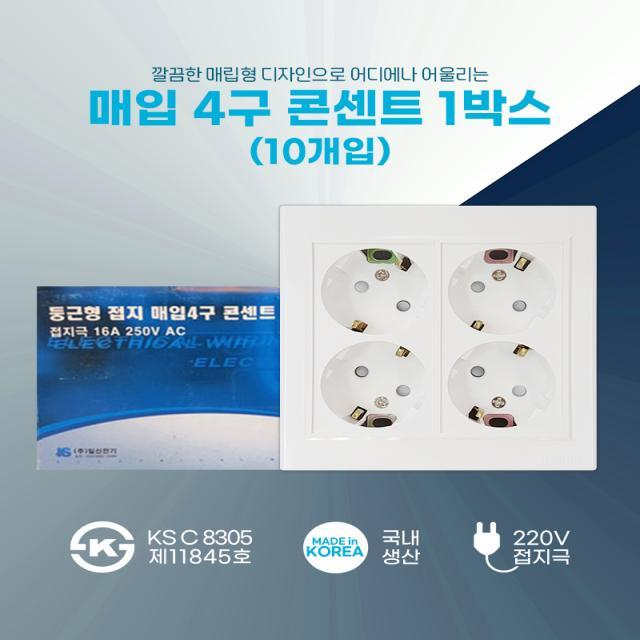typeb: (274, 194, 608, 493)
